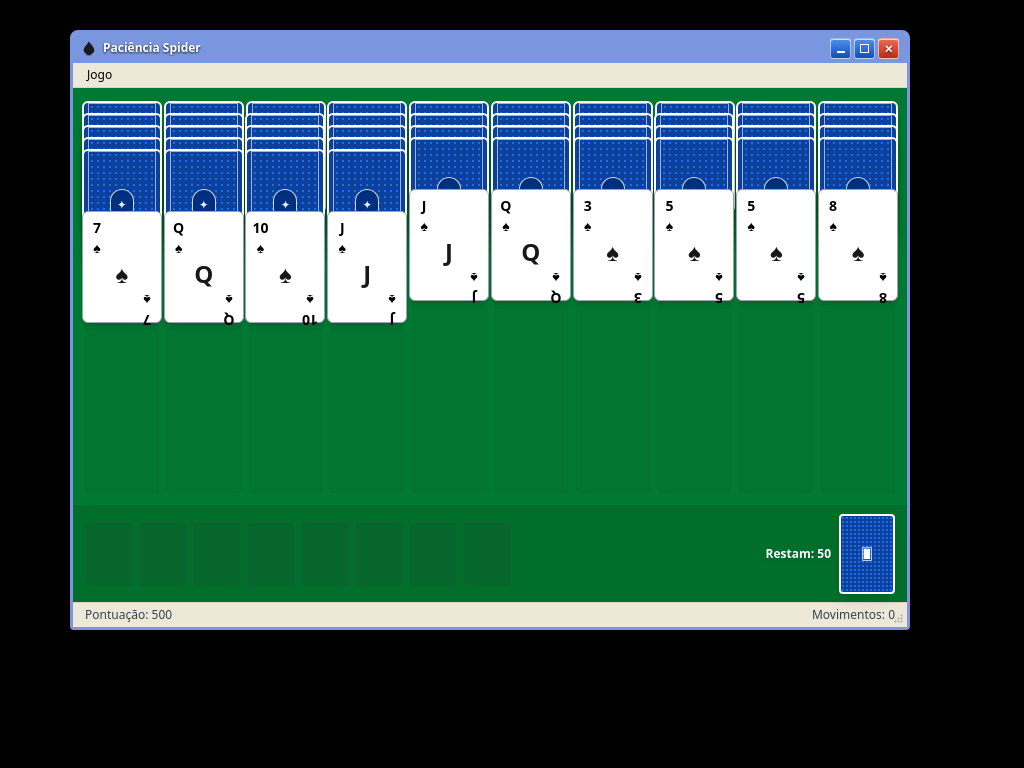
Test: SpiderSolitaireApp › deals cards when clicking the stock button
Click the button with test id "spider-stock-button" at (867, 554), box [839,514,895,594]
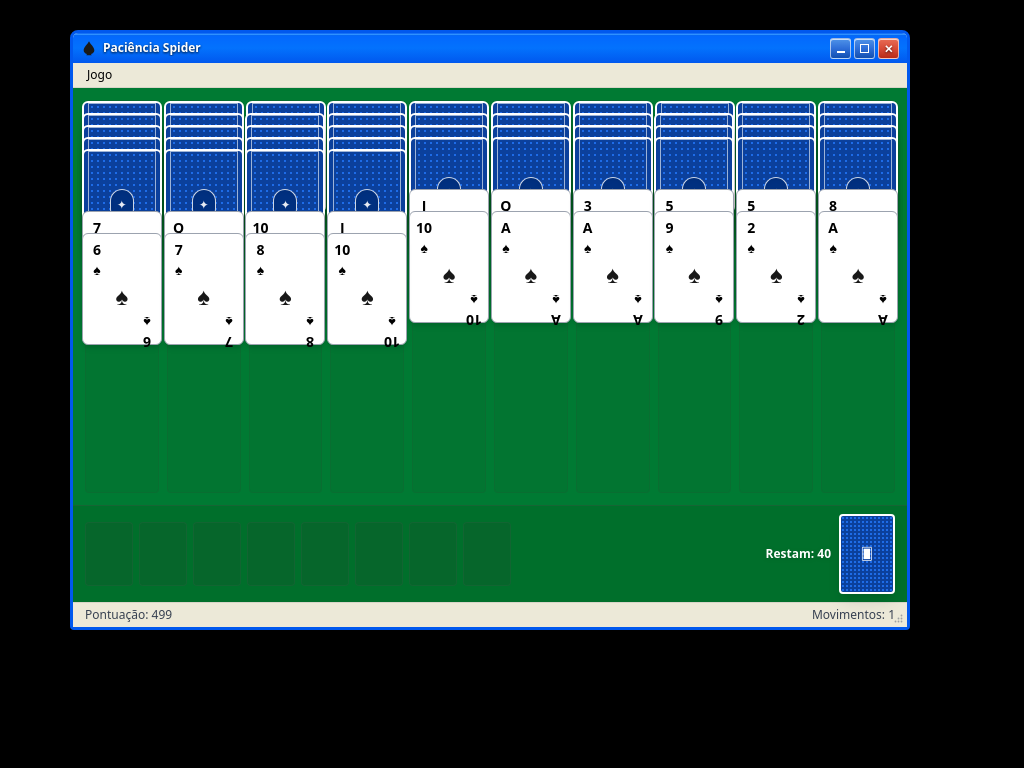
Expected: the text "Movimentos: 1" is shown, [812,607,895,623]
